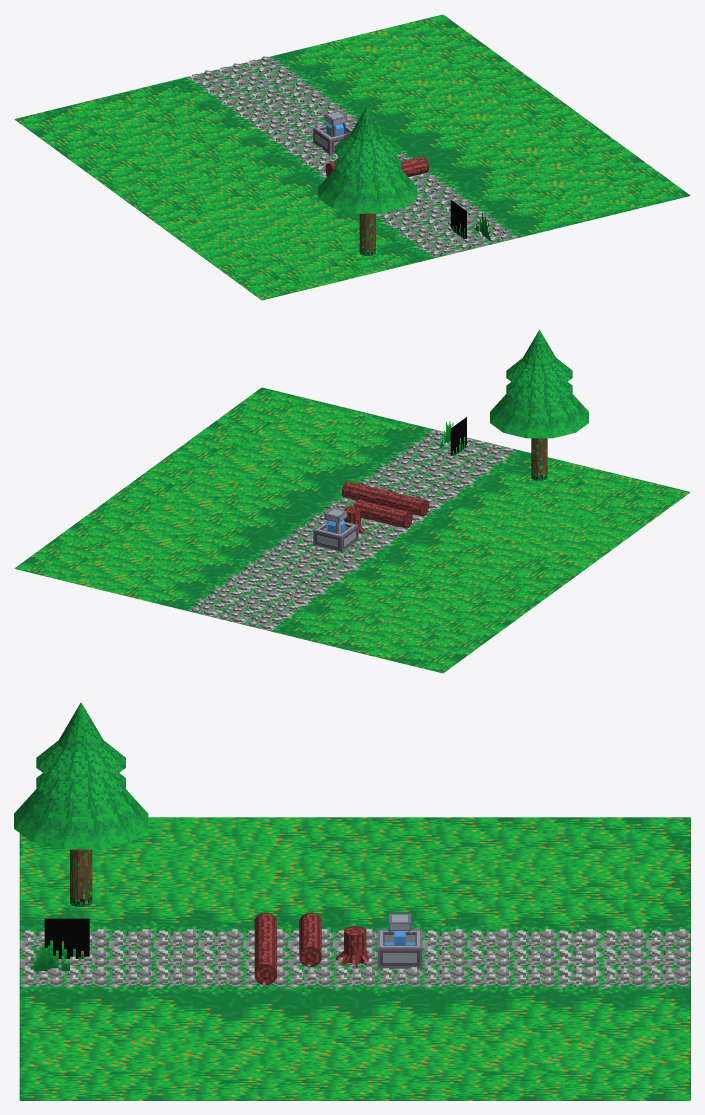
Rendered from stumpFix.fbx.
The picture shows the model from 3 angles, top to bottom: view 1: azimuth 30°, elevation 25°; view 2: azimuth 150°, elevation 25°; view 3: azimuth 270°, elevation 25°; orthographic projection. The views are drawn at different scales.
Visible parts, largest first — view 1: FloorBlockOut, Rocks, Tree, Water Base, Grass, 3Tile Log; view 2: FloorBlockOut, Rocks, Tree, 3Tile Log, Water Base, 2Tile Log; view 3: FloorBlockOut, Rocks, Tree, Water Base, Grass, 3Tile Log, 2Tile Log, Stump Roots, Bushes.
Part boxes in pixels (x1=…): FloorBlockOut: x1=14, y1=14, x2=690, y2=300; Rocks: x1=189, y1=56, x2=511, y2=255; Tree: x1=318, y1=105, x2=417, y2=255; Water Base: x1=313, y1=110, x2=353, y2=154; Grass: x1=450, y1=200, x2=466, y2=238; 3Tile Log: x1=400, y1=156, x2=428, y2=176; FloorBlockOut: x1=14, y1=387, x2=690, y2=673; Rocks: x1=191, y1=430, x2=513, y2=629; Tree: x1=490, y1=330, x2=588, y2=480; 3Tile Log: x1=342, y1=481, x2=428, y2=516; Water Base: x1=313, y1=508, x2=358, y2=551; 2Tile Log: x1=353, y1=499, x2=412, y2=528; FloorBlockOut: x1=19, y1=817, x2=690, y2=1100; Rocks: x1=25, y1=929, x2=690, y2=987; Tree: x1=14, y1=702, x2=148, y2=906; Water Base: x1=377, y1=913, x2=422, y2=968; Grass: x1=44, y1=918, x2=89, y2=958; 3Tile Log: x1=254, y1=912, x2=276, y2=984; 2Tile Log: x1=299, y1=912, x2=321, y2=966; Stump Roots: x1=335, y1=926, x2=369, y2=968; Bushes: x1=30, y1=940, x2=69, y2=970.
Bounding box in the file's own units: 1500 × 494 × 1512.
Materials: 7 (7 with a texture image).
